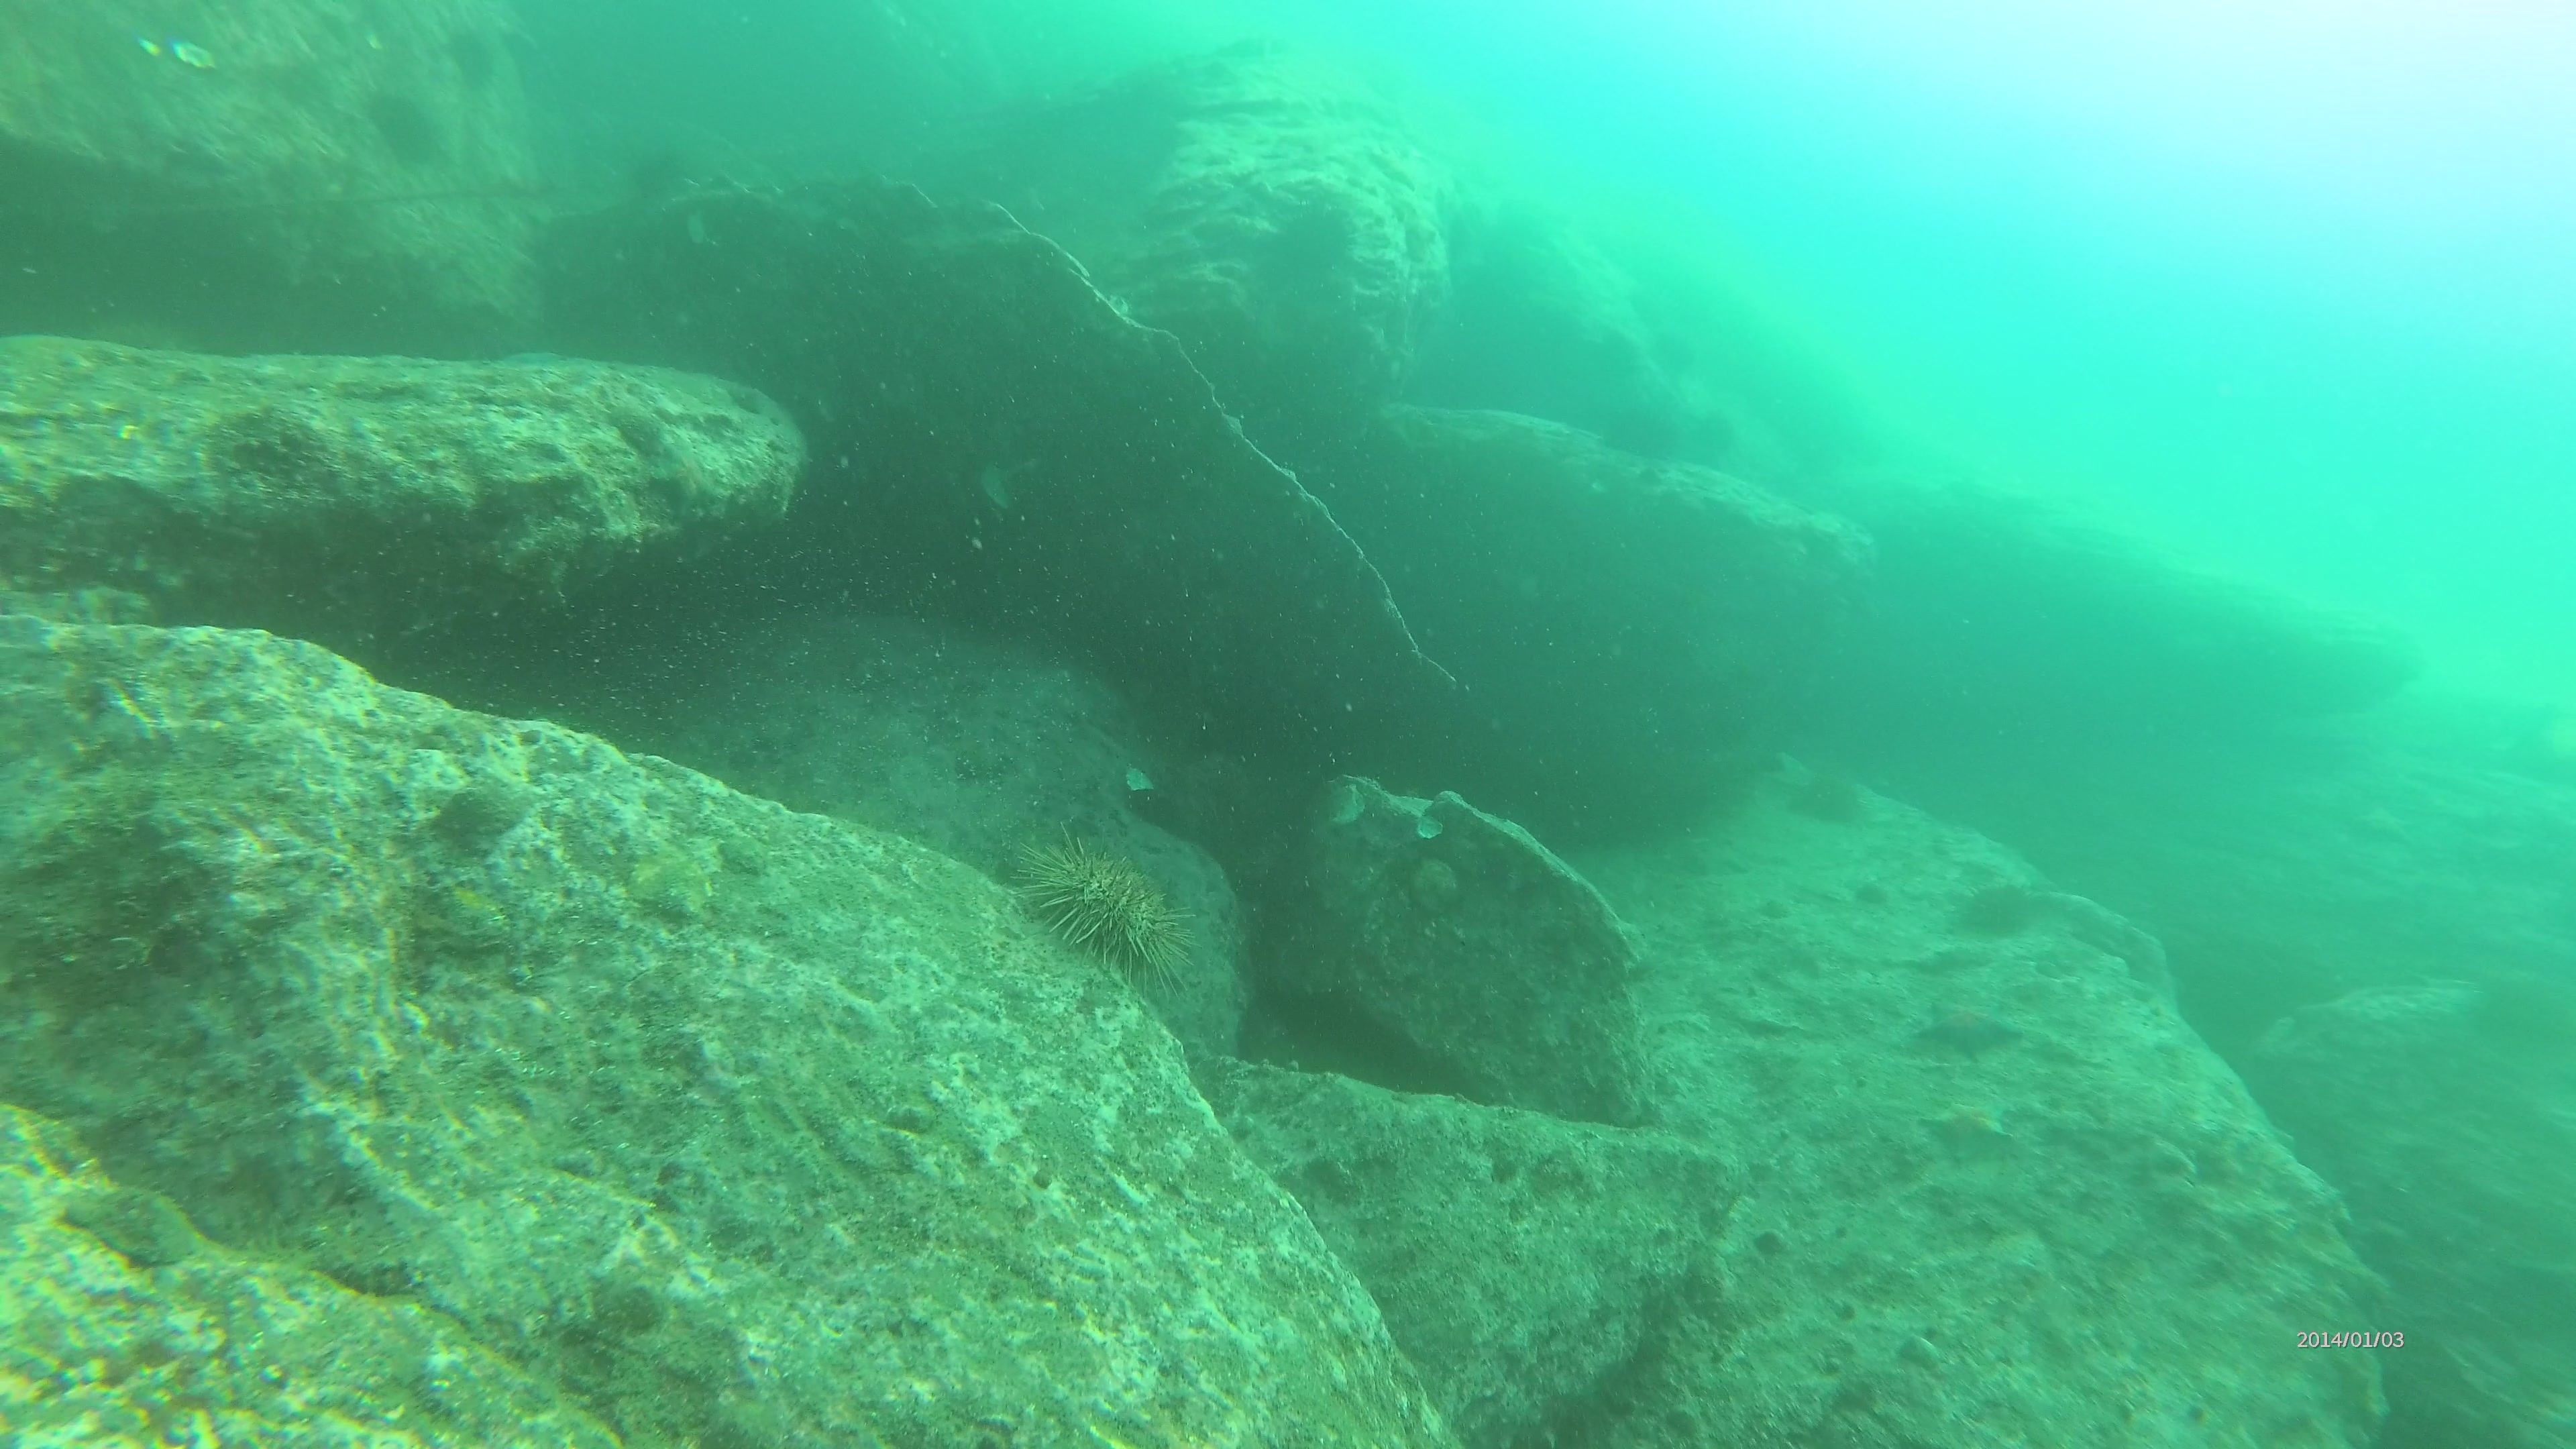echinus: (1008, 817, 1207, 989), (1953, 870, 2043, 938), (1790, 763, 1879, 824)
